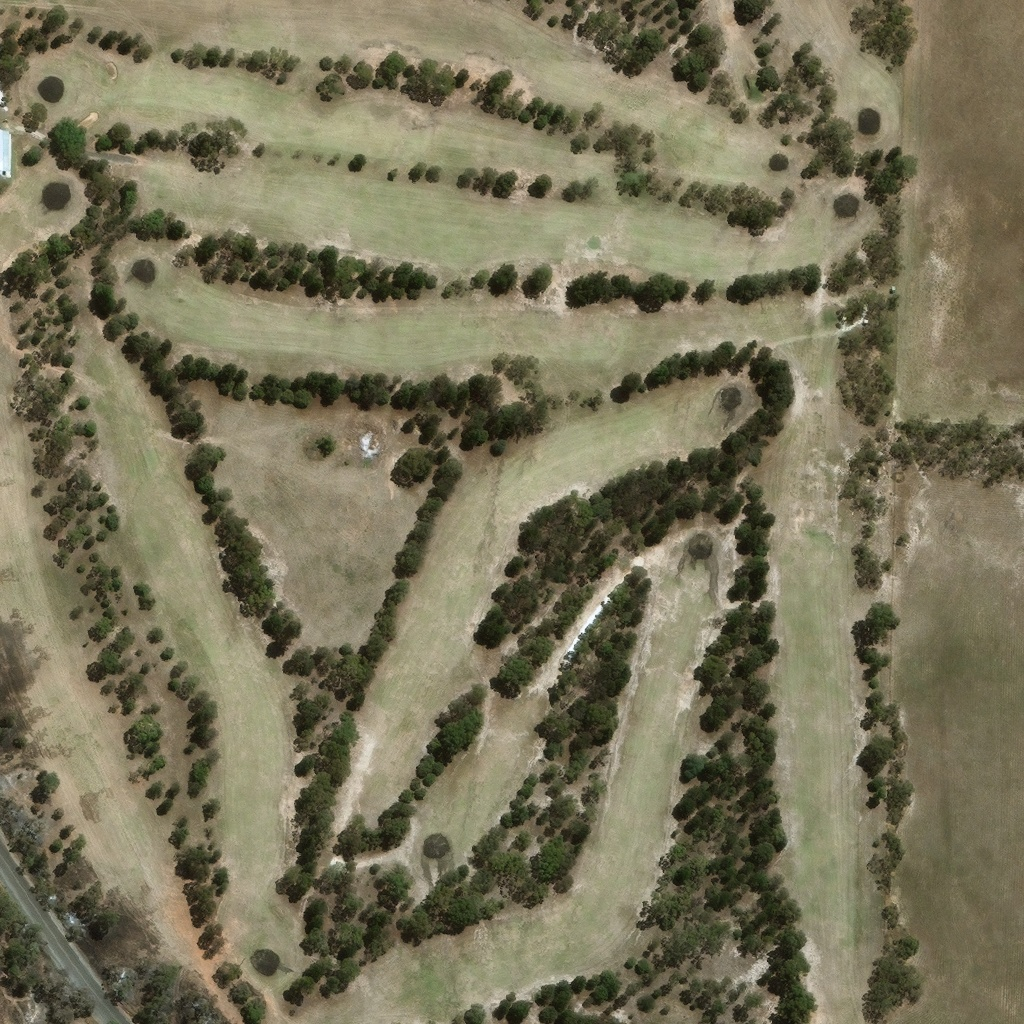3 destroyed: (15, 762, 40, 793)
4 un-classified: (0, 129, 12, 176), (0, 121, 5, 126)
